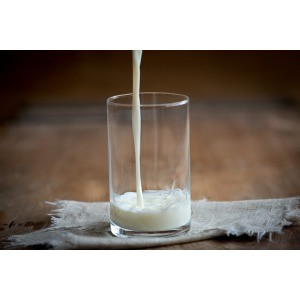milk_brain food: (101, 172, 193, 240)
